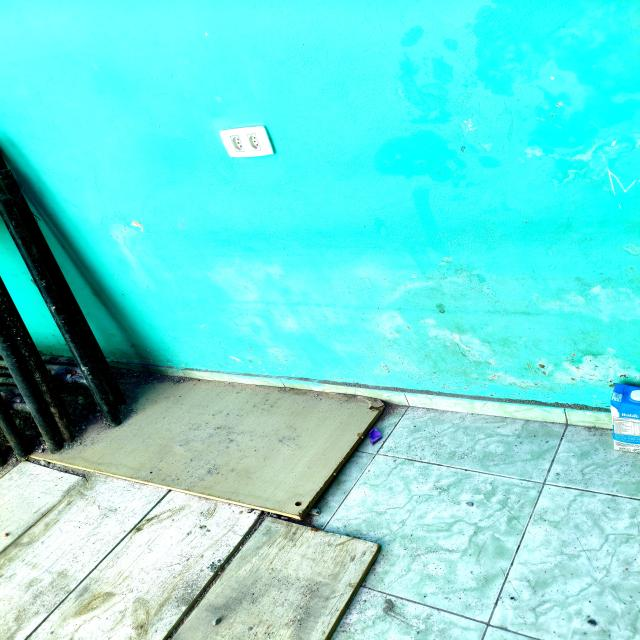Caixa de Leite: (603, 383, 640, 453)
